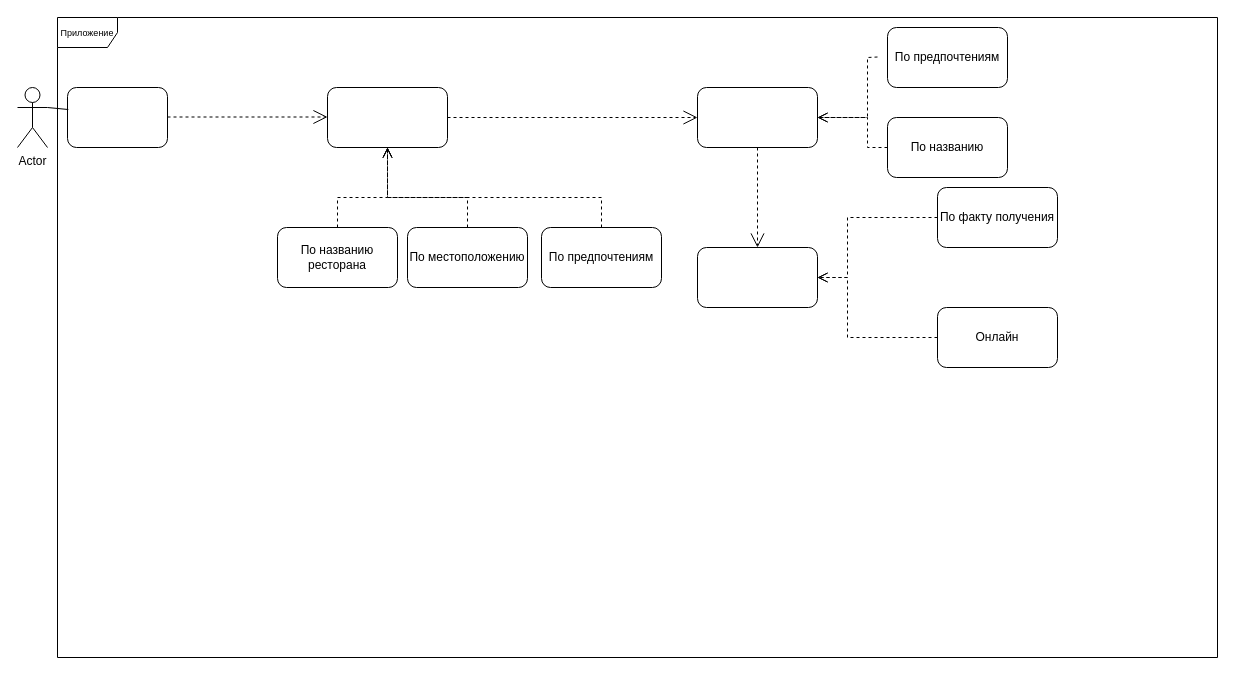
This 1235x675 diagram has some shape labels left out. Here are the shapes that lost their labels. From the top down, the centre of each, then its label:
At (x=117, y=117): "Доставка".
At (x=387, y=117): "Выбор места".
At (x=757, y=117): "Выбор блюд".
At (x=757, y=277): "Оплата".
